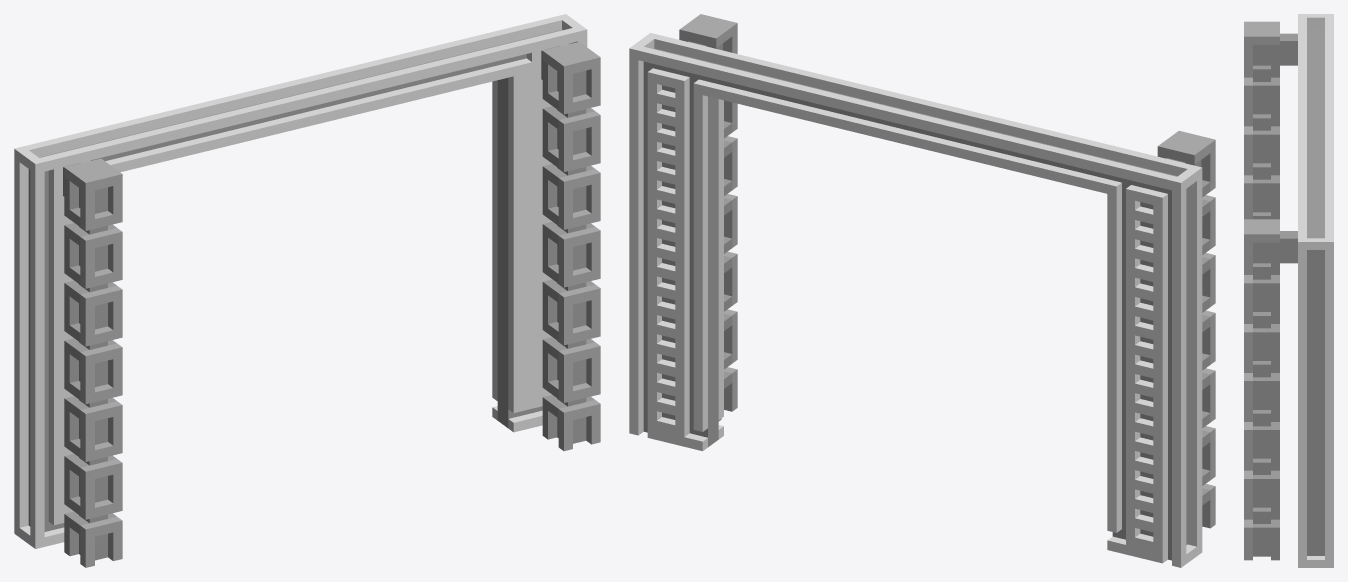
The model's file is Main Hall Hallway.obj.
The picture shows the model from 3 angles, left to right: view 1: azimuth 30°, elevation 25°; view 2: azimuth 150°, elevation 25°; view 3: azimuth 270°, elevation 25°; orthographic projection. The views are drawn at different scales.
Bounding box in the file's own units: 60 × 40 × 10.
Materials: 1 (1 with a texture image).
